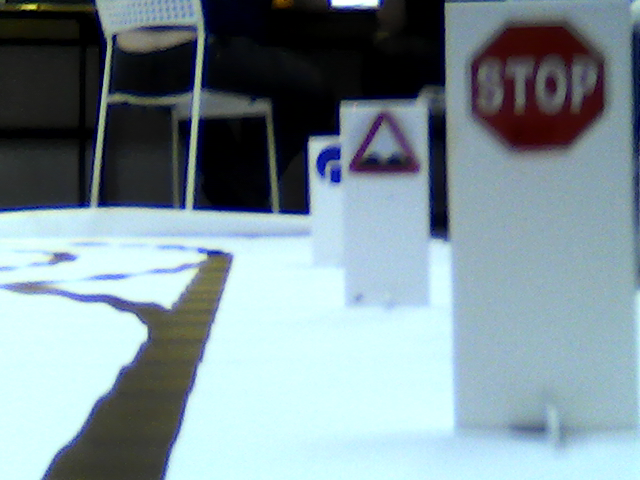Nerov: (348, 111, 423, 173)
Stop: (468, 20, 608, 149)
